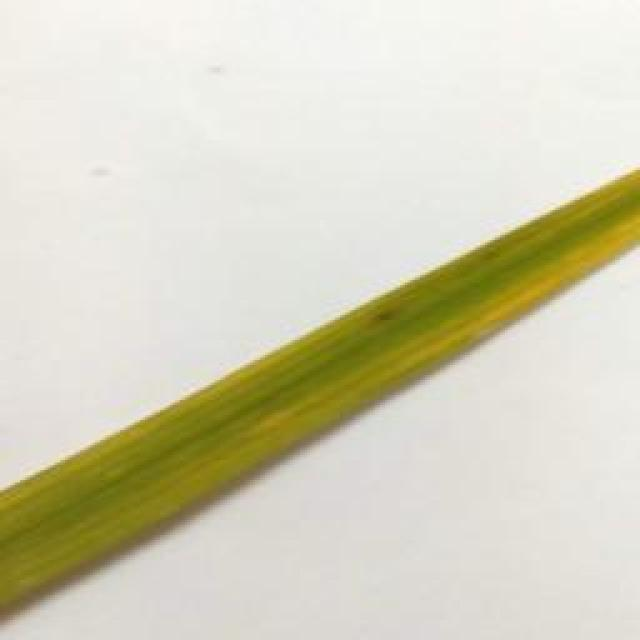Bacterial_Blight: (400, 182, 640, 371)
Brown_Spot: (367, 303, 402, 336)
